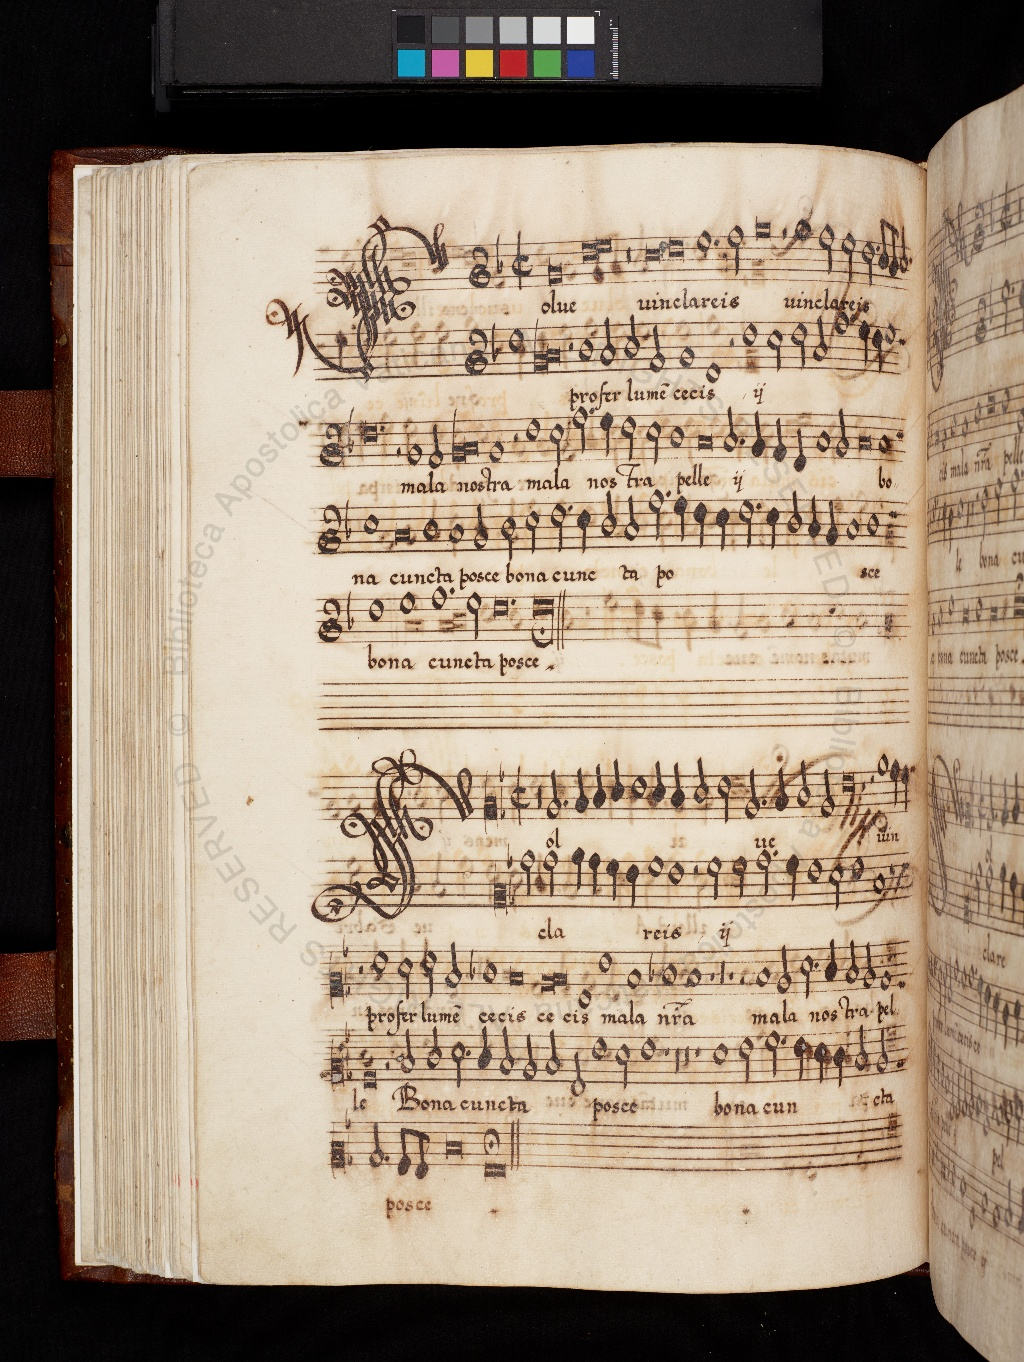breve_8: (390, 519, 414, 549)
custos_5: (881, 495, 907, 528)
flat_7: (340, 496, 355, 545)
g clef_9: (315, 496, 344, 562)
minim_3: (645, 484, 664, 547)
minim_5: (547, 496, 568, 556), (735, 494, 755, 553)
minim_6: (523, 503, 542, 559)
minim_7: (498, 505, 521, 565), (597, 485, 618, 545), (784, 484, 803, 541)
minim_8: (620, 490, 641, 549)
minim_9: (469, 498, 490, 558)
point: (749, 496, 766, 517), (559, 497, 575, 517), (658, 483, 673, 503)
semibreve_6: (359, 506, 381, 542)
semibreve_7: (417, 500, 446, 554), (863, 505, 883, 543)
semibreve_8: (443, 512, 468, 559), (843, 510, 863, 547)
semiminim_4: (672, 490, 689, 549)
semiminim_5: (692, 494, 709, 555)
semiminim_6: (575, 499, 594, 561), (714, 498, 733, 558), (765, 498, 782, 554)
semiminim_9: (822, 490, 842, 554), (803, 490, 822, 549)
